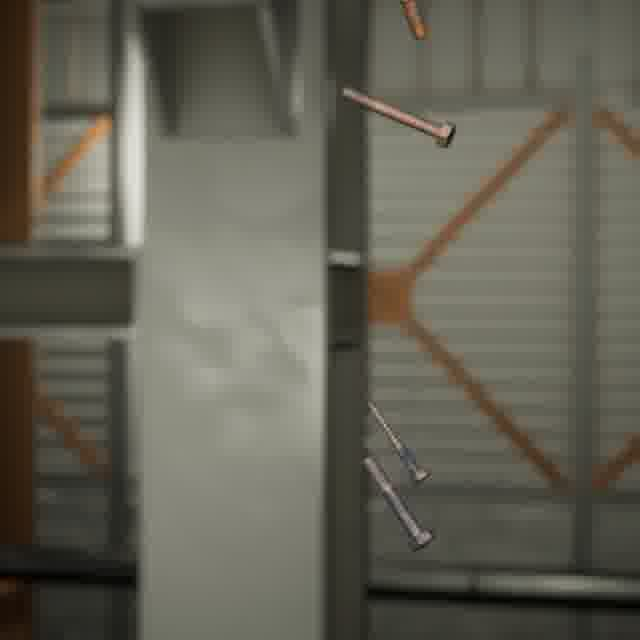bolt: (337, 81, 460, 152), (357, 450, 439, 555), (363, 396, 434, 489), (393, 0, 431, 44)
